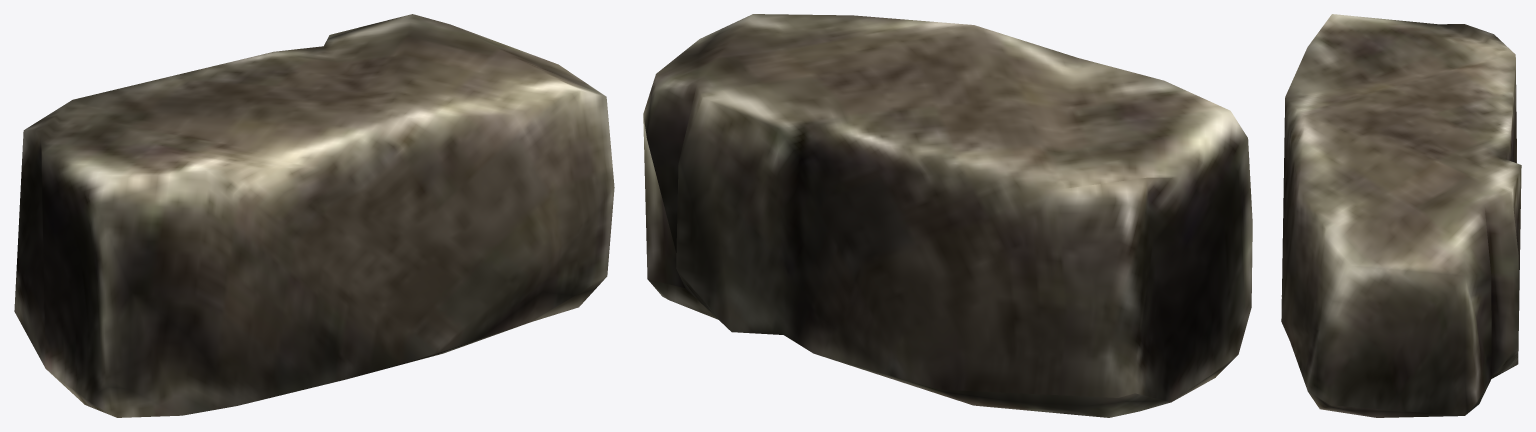
Rendered from ShiTou_3.fbx.
3 renders of one model, left to right at view 1: azimuth 30°, elevation 25°; view 2: azimuth 150°, elevation 25°; view 3: azimuth 270°, elevation 25°, orthographic. The views are drawn at different scales.
Parts seen in each view (by area): view 1: SM_RP_Vol_01_18; view 2: SM_RP_Vol_01_18; view 3: SM_RP_Vol_01_18.
Boxes of the visible parts, bbox=[...] form: SM_RP_Vol_01_18: bbox=[14, 14, 614, 417]; SM_RP_Vol_01_18: bbox=[643, 14, 1252, 417]; SM_RP_Vol_01_18: bbox=[1281, 14, 1521, 417].
Size of the model in its own units: 33.11 by 15.47 by 15.4.
